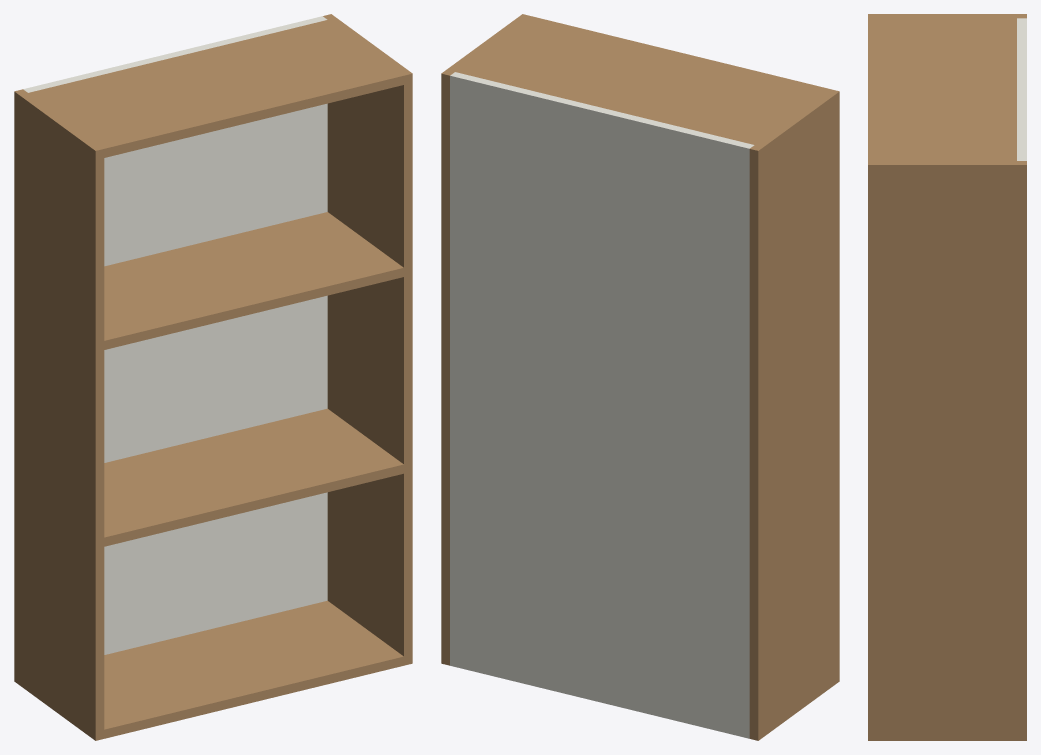
3 views of the same model, side by side, from view 1: azimuth 30°, elevation 25°; view 2: azimuth 150°, elevation 25°; view 3: azimuth 270°, elevation 25° (orthographic). The views are drawn at different scales.
Visible parts, largest first — view 1: Back, Side_0, Side_1, Shelf_3, Shelf_0, Shelf_1, Shelf_2; view 2: Back, Side_0, Shelf_3, Side_1; view 3: Side_1, Shelf_3, Back, Side_0.
Boxes of the visible parts, x1,y1,x2,y2 form: Back: (23,16,327,654); Side_0: (14,89,104,740); Side_1: (323,14,412,665); Shelf_3: (28,20,403,157); Shelf_0: (104,600,403,738); Shelf_1: (104,408,403,546); Shelf_2: (104,212,403,349); Back: (450,72,754,738); Side_0: (749,89,839,740); Shelf_3: (455,16,830,144); Side_1: (441,14,530,665); Side_1: (868,161,1026,740); Shelf_3: (868,18,1016,160); Back: (1017,18,1026,160); Side_0: (868,14,1026,18).
Size of the model in its own units: 0.9 by 1.6 by 0.4.
